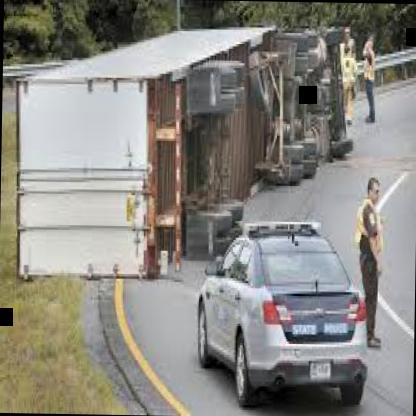accident: (13, 11, 362, 282)
